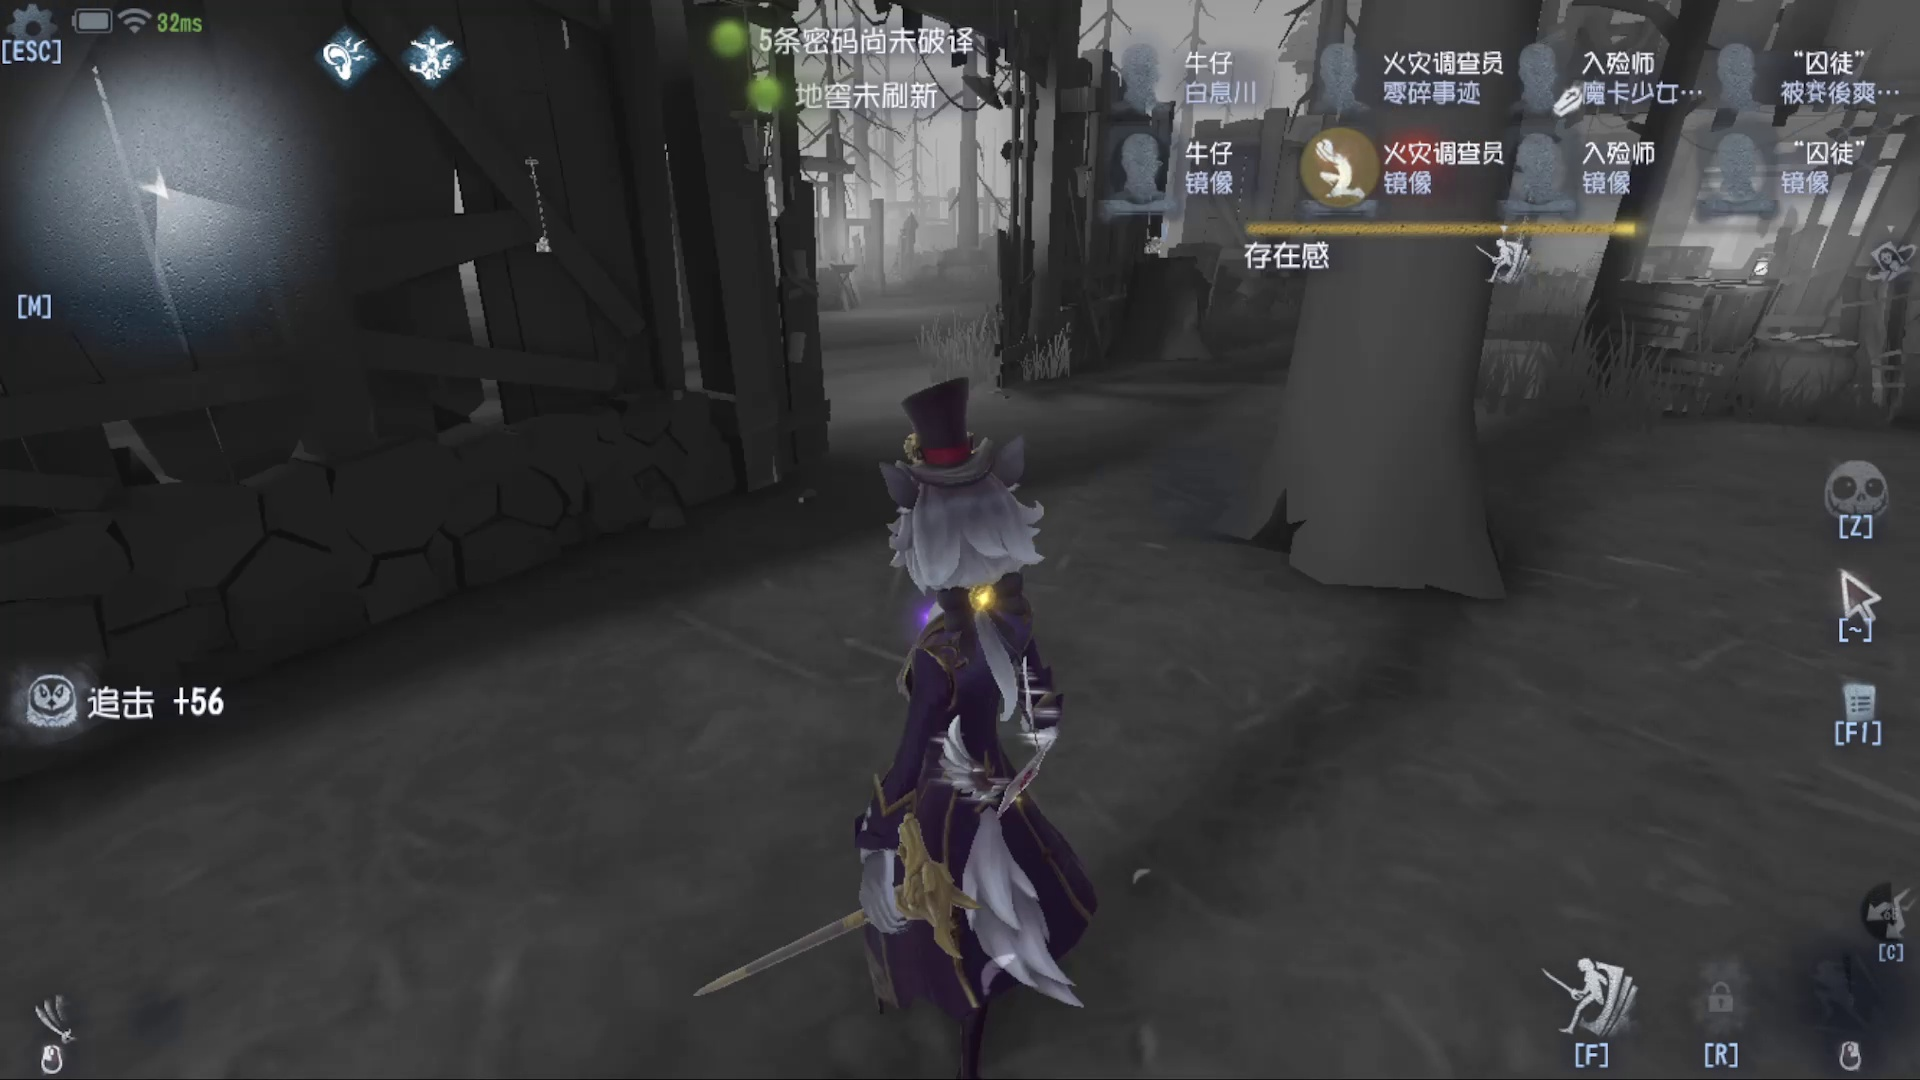密码机: (513, 142, 563, 266)
